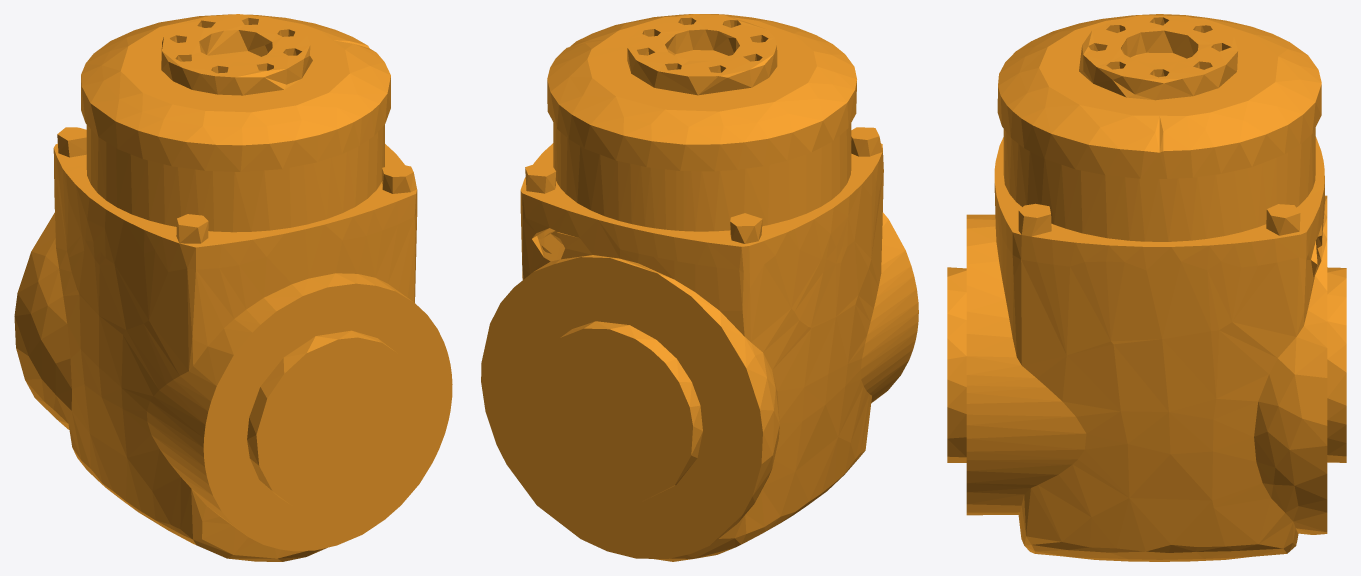
File: KukaKR10Link5.dae
3 renders of one model, left to right at view 1: azimuth 30°, elevation 25°; view 2: azimuth 150°, elevation 25°; view 3: azimuth 270°, elevation 25°, orthographic. The views are drawn at different scales.
Parts seen in each view (by area): view 1: KR10Link5; view 2: KR10Link5; view 3: KR10Link5.
Part boxes in pixels (x1,y1,x2,y2): KR10Link5: (14,14,452,561); KR10Link5: (481,14,918,561); KR10Link5: (947,14,1346,561).
Bounding box in the file's own units: 0.0873 × 0.1025 × 0.1405.
